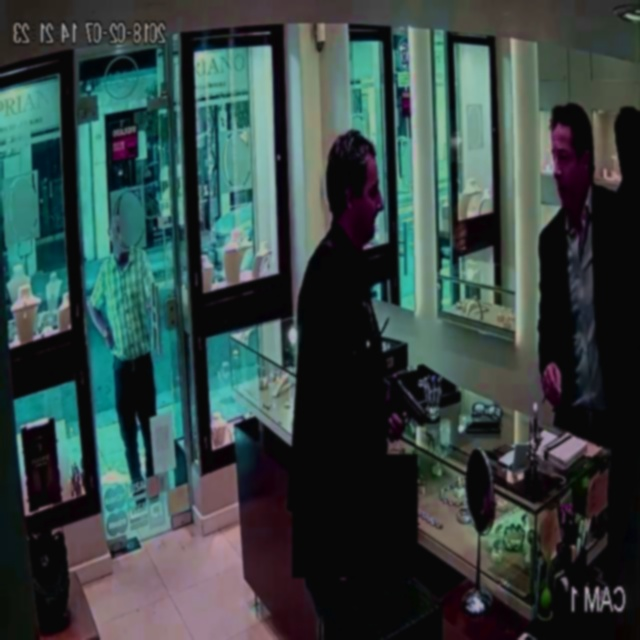gun: (386, 352, 442, 473)
